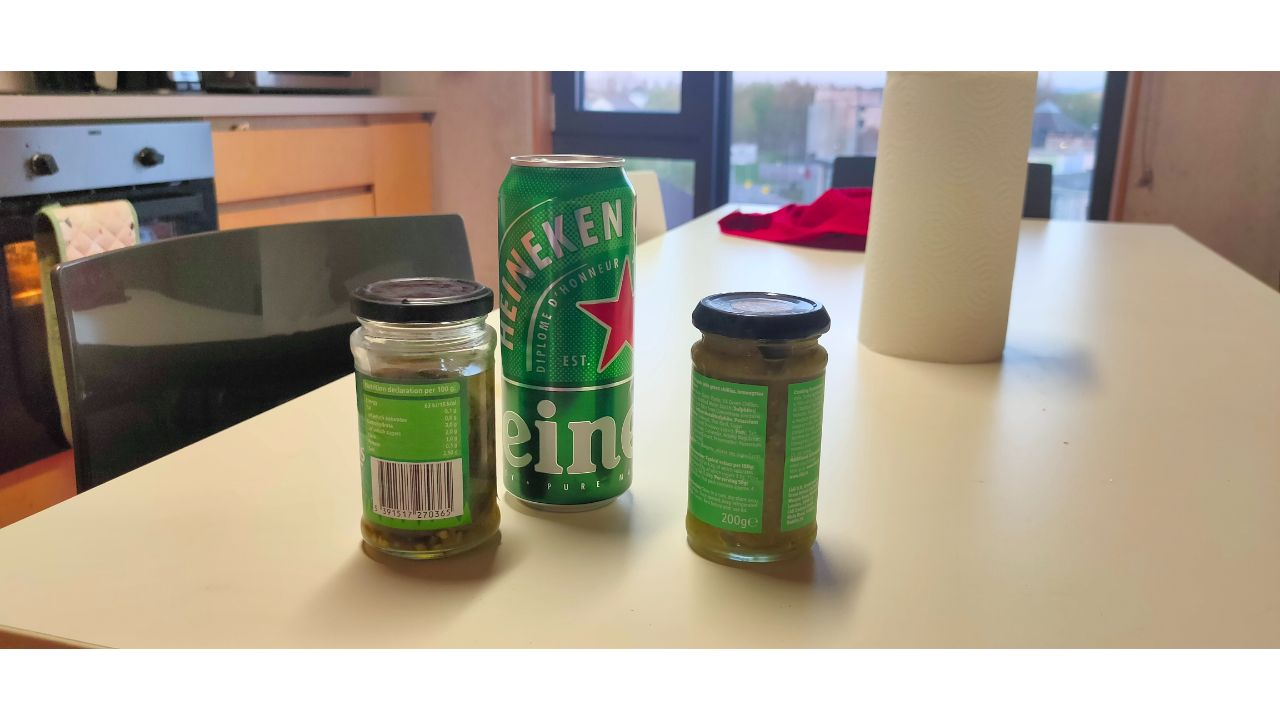Can: (497, 152, 639, 515)
